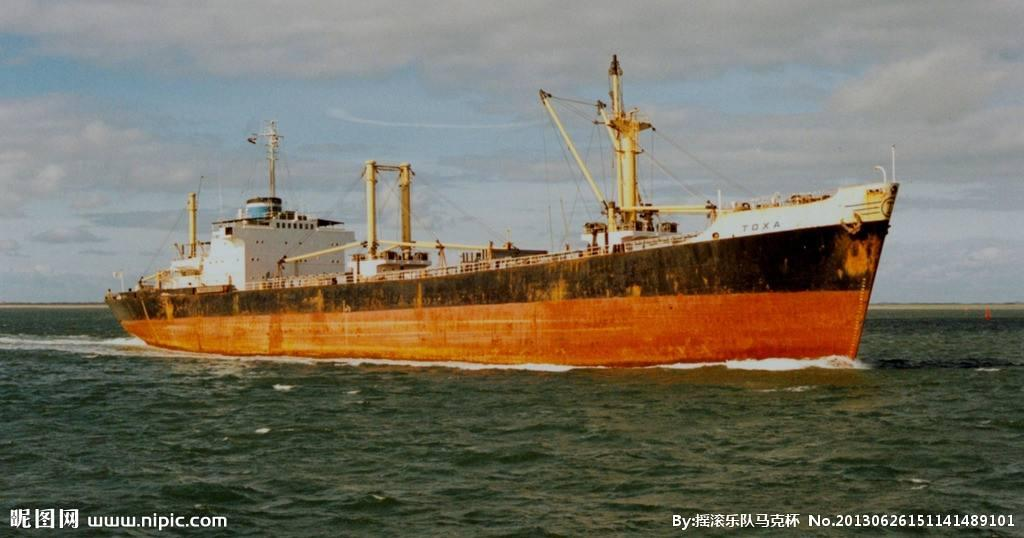Cargoship: (104, 55, 912, 367)
